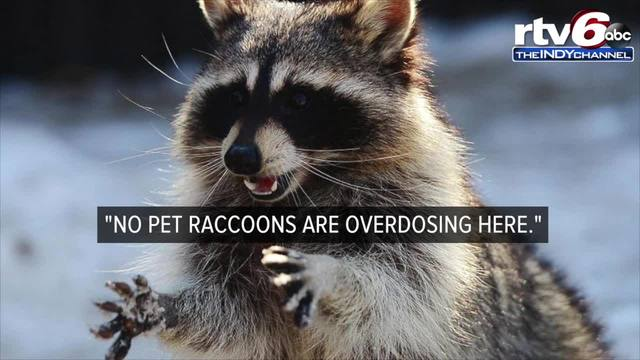raccoon: (95, 1, 611, 360)
